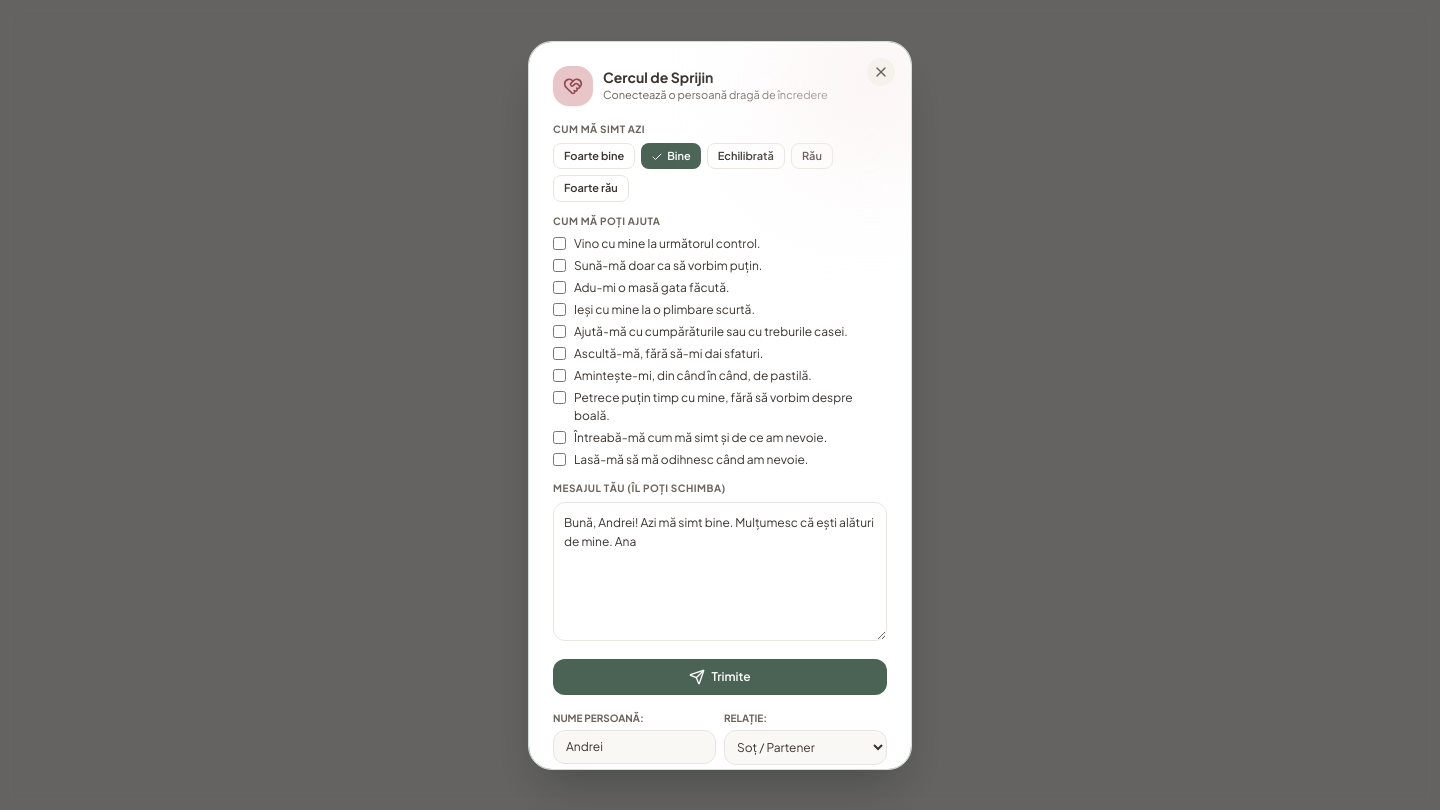
Test: Cercul tău › o eroare a partajării spune ce poate face
Click the button "Trimite".
click(720, 676)  # box [553,658,887,694]
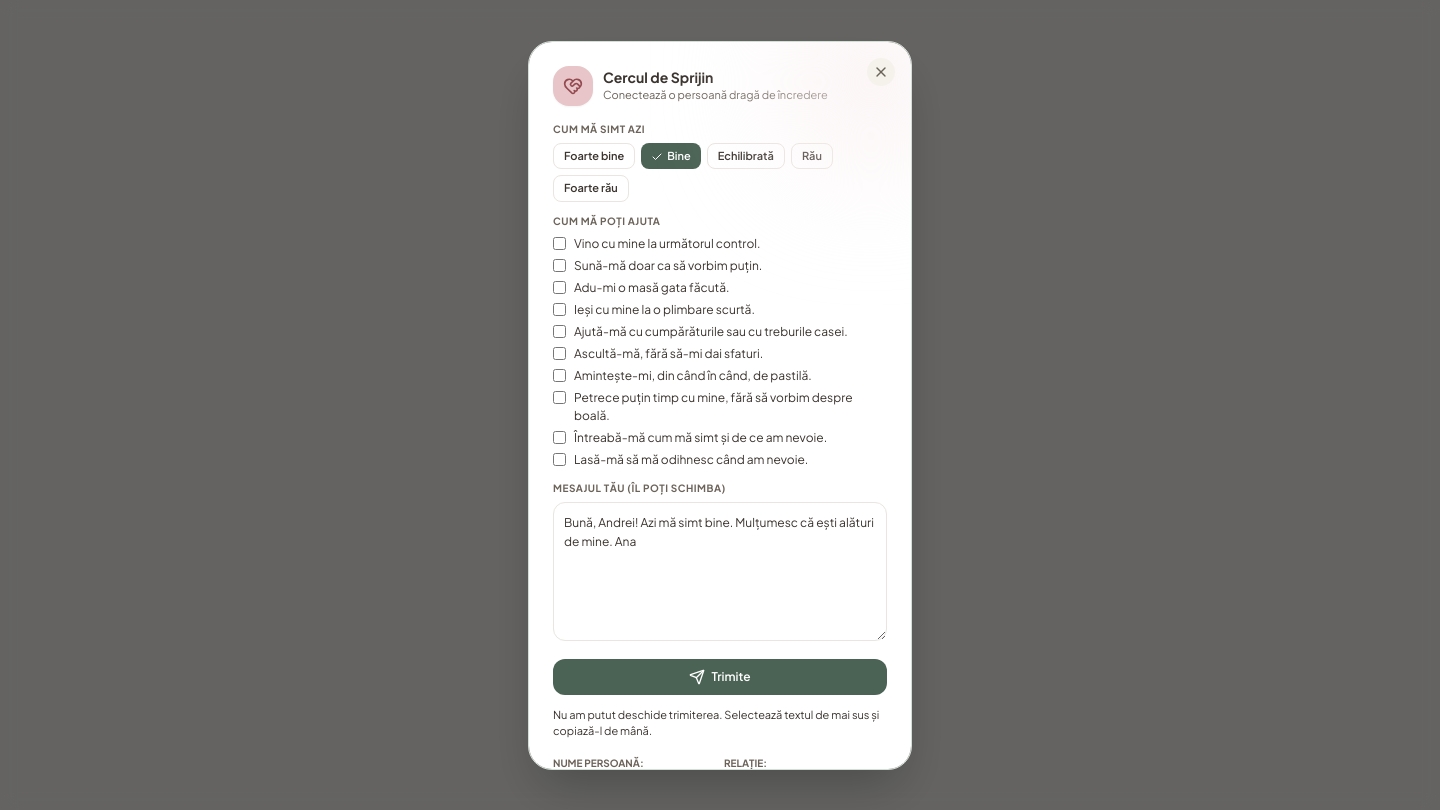
Now the message shows "Nu am putut deschide trimiterea. Selectează textul de mai sus și copiază-l de mână.", box [553,708,879,737]
